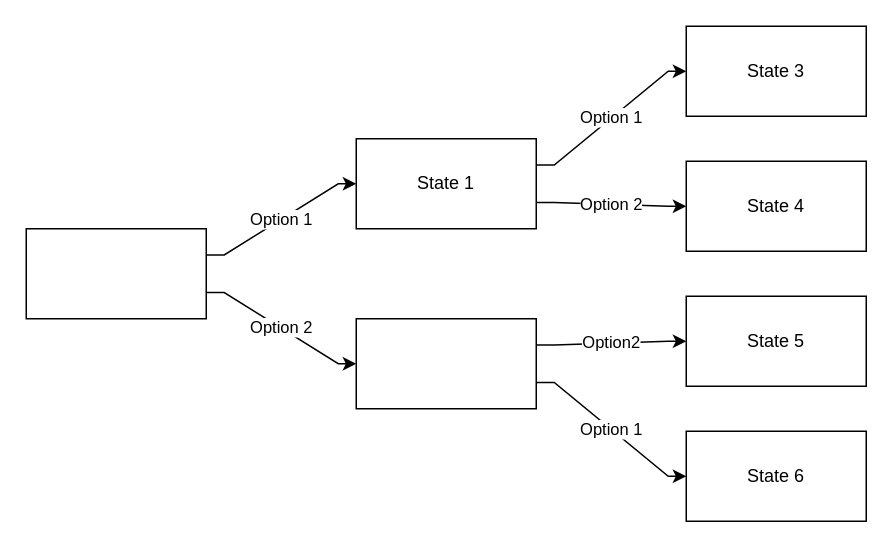
This 893x548 diagram has some shape labels left out. Each missing label, with the centre of its shape:
"State 0" goes at (x=115, y=273).
"State 2" goes at (x=445, y=363).
